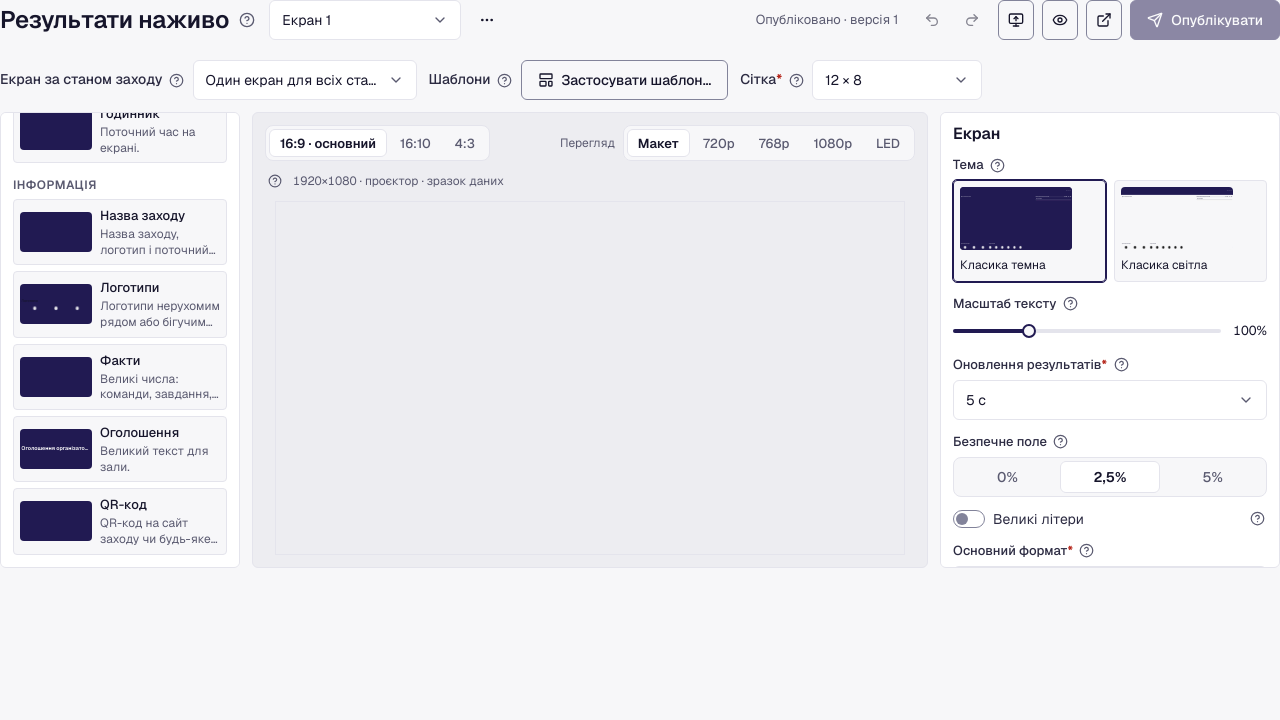
Test: live editor › never grows the grid by itself: a full grid says there is no room
The width and height of the screenshot is (1280, 720).
(page scrolled)
What coordinates should you click on to do the following:
click the button "Оголошення організатора Оголошення Великий текст для зали."
I would click on:
 (120, 449)
Its box is [13,416,227,482].
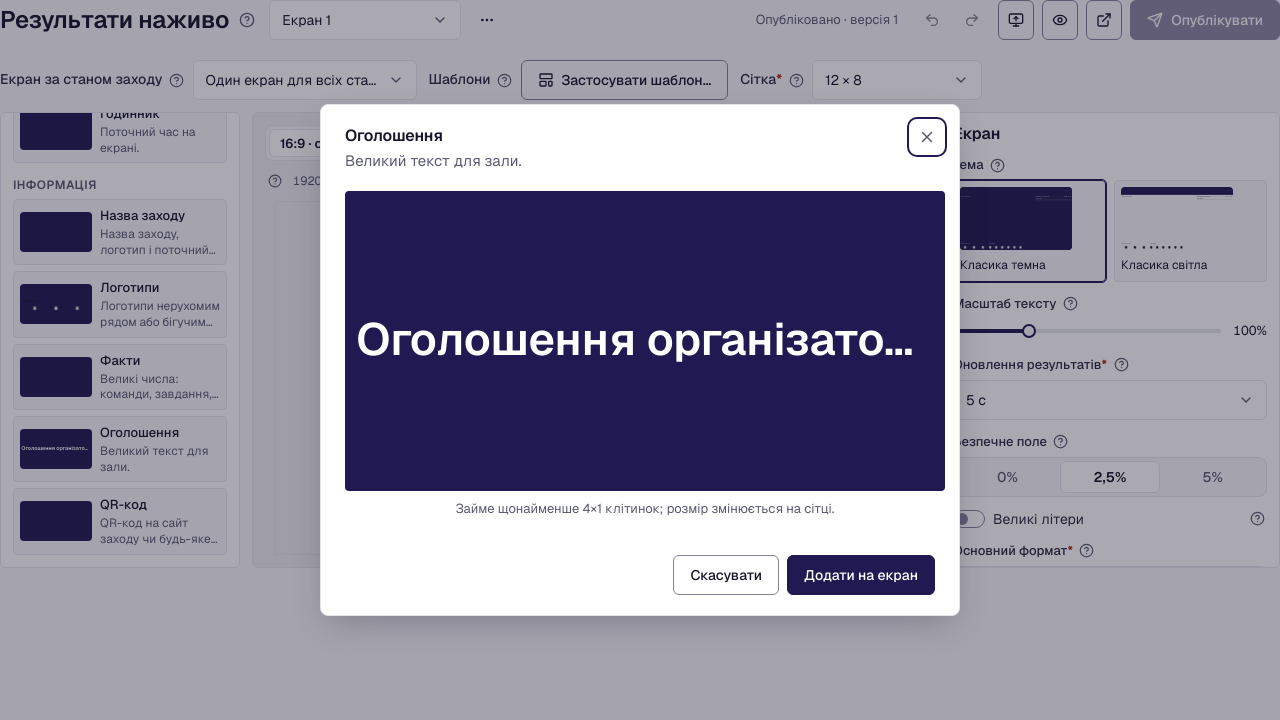
What coordinates should you click on to do the following:
click the button "Додати на екран"
I would click on:
 (861, 575)
Its box is [787,555,935,595].
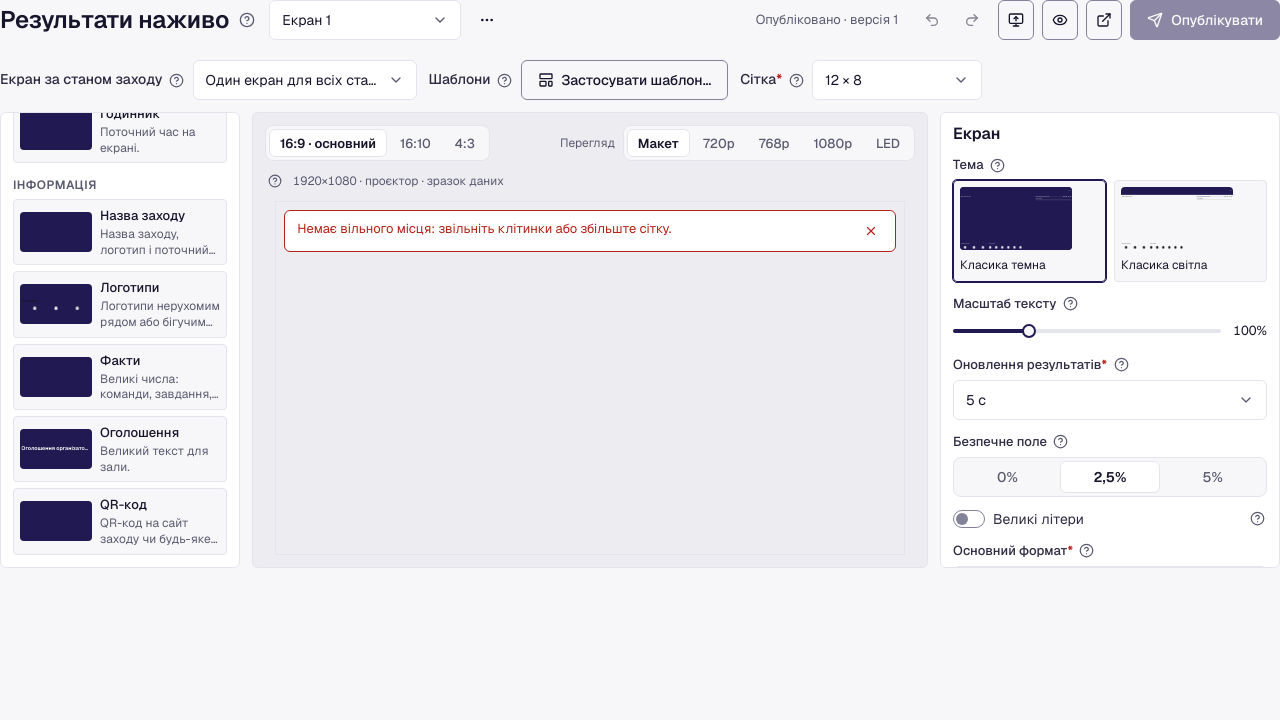
Result: the text "Немає вільного місця: звільніть клітинки або збільште сітку." is shown at [297,220,671,237]
